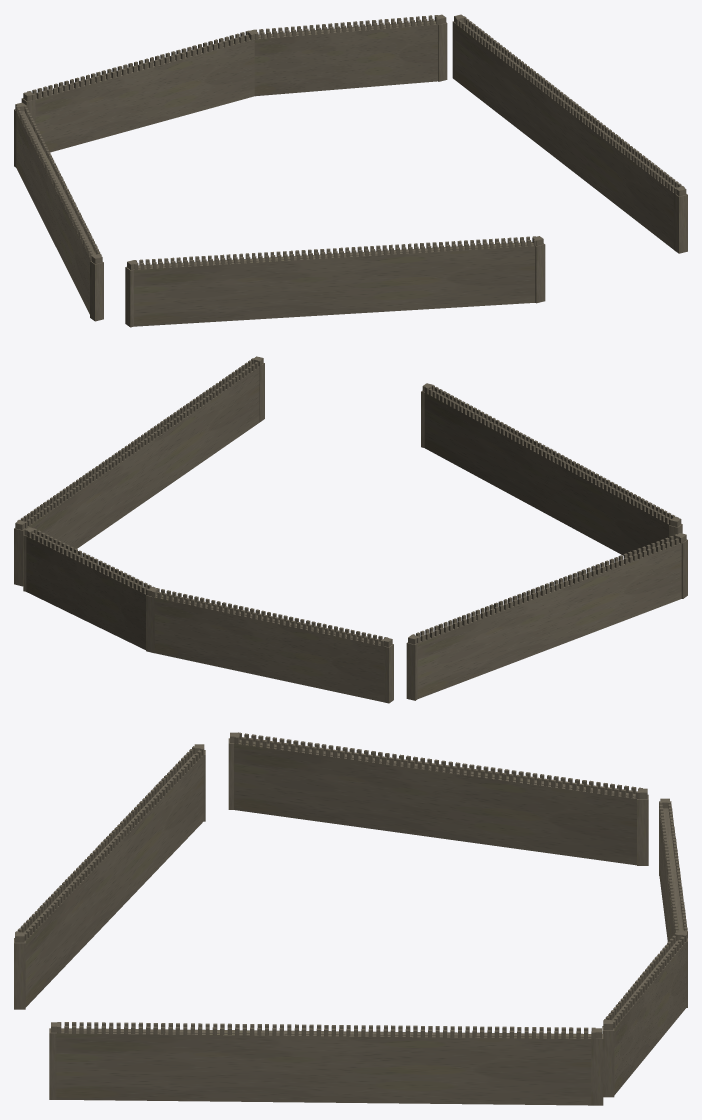
The model's file is site-tower-of-london_51.508_-0.076.glb.
The picture shows the model from 3 angles, top to bottom: view 1: azimuth 30°, elevation 25°; view 2: azimuth 150°, elevation 25°; view 3: azimuth 270°, elevation 25°; orthographic projection. The views are drawn at different scales.
Size of the model in its own units: 177 by 20.02 by 168.
Materials: 1 (1 with a texture image).
